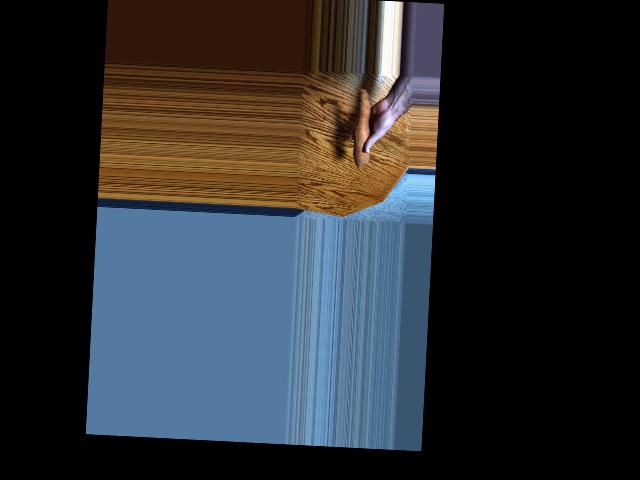sweet_potato: (350, 88, 376, 164)
